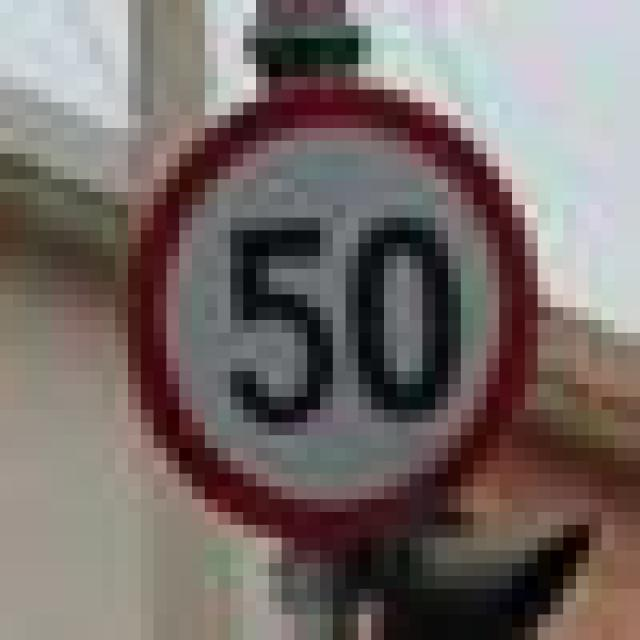speed_limit_30: (102, 64, 525, 538)
